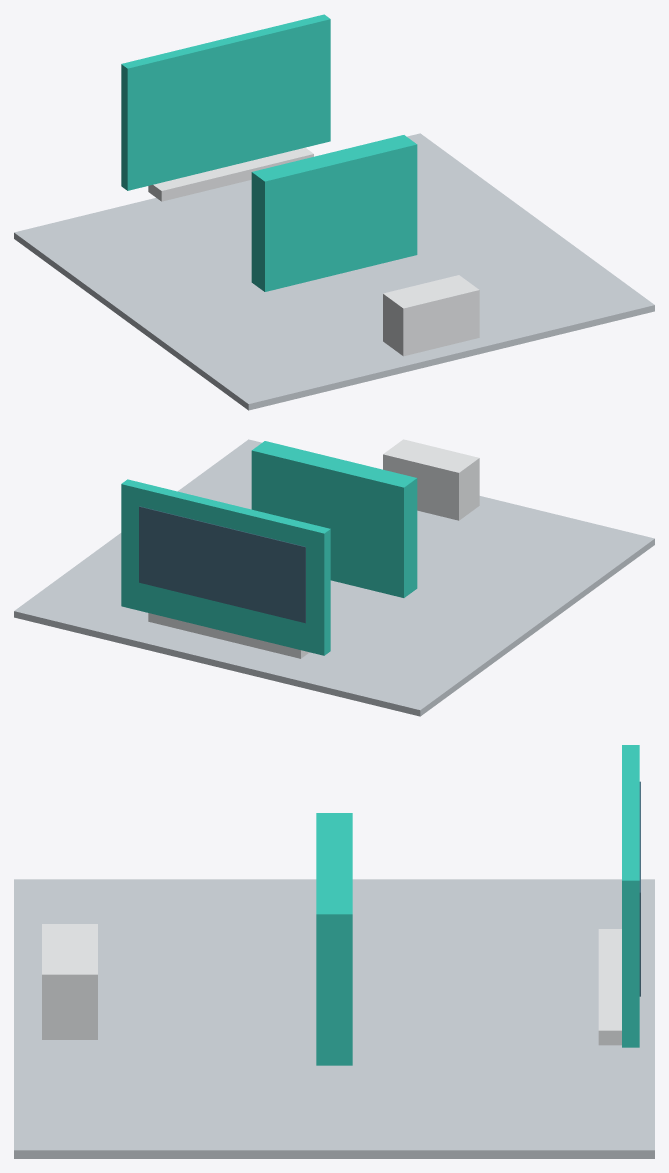
3 renders of one model, top to bottom at view 1: azimuth 30°, elevation 25°; view 2: azimuth 150°, elevation 25°; view 3: azimuth 270°, elevation 25°, orthographic. The views are drawn at different scales.
Visible parts, largest first — view 1: Exhibition Booth Concept; view 2: Exhibition Booth Concept; view 3: Exhibition Booth Concept.
Part boxes in pixels (box(x1,y1,x2,y2)): Exhibition Booth Concept: box(14, 14, 654, 410); Exhibition Booth Concept: box(14, 439, 654, 716); Exhibition Booth Concept: box(14, 745, 654, 1158).
Size of the model in its own units: 8 by 2.9 by 8.
